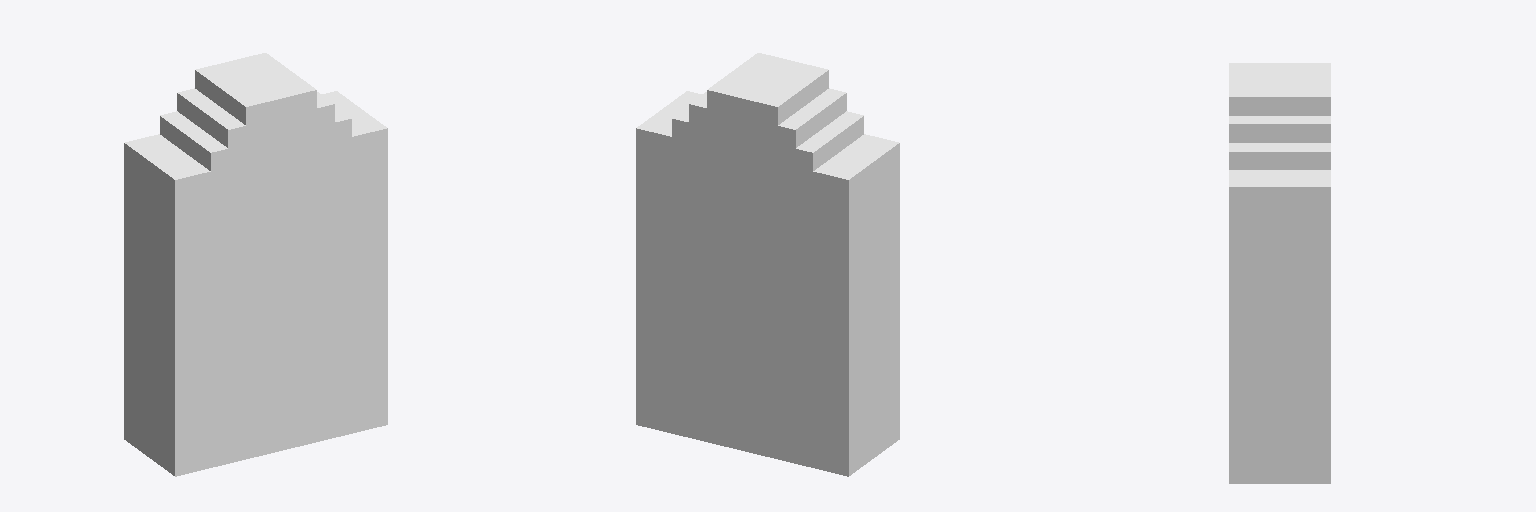
File: dedstone.obj
3 views of the same model, side by side, from view 1: azimuth 30°, elevation 25°; view 2: azimuth 150°, elevation 25°; view 3: azimuth 270°, elevation 25° (orthographic).
Visible parts, largest first — view 1: object 1; view 2: object 1; view 3: object 1.
Boxes of the visible parts, box(x1,y1,x2,y2) form: object 1: box(124, 53, 387, 476); object 1: box(636, 53, 899, 476); object 1: box(1229, 63, 1330, 483).
Size of the model in its own units: 1.2 by 1.9 by 0.5.